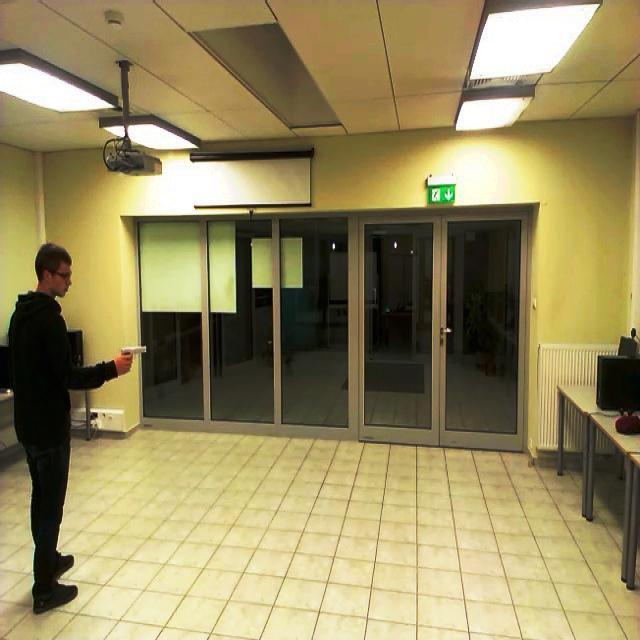Gun: (114, 344, 161, 374)
